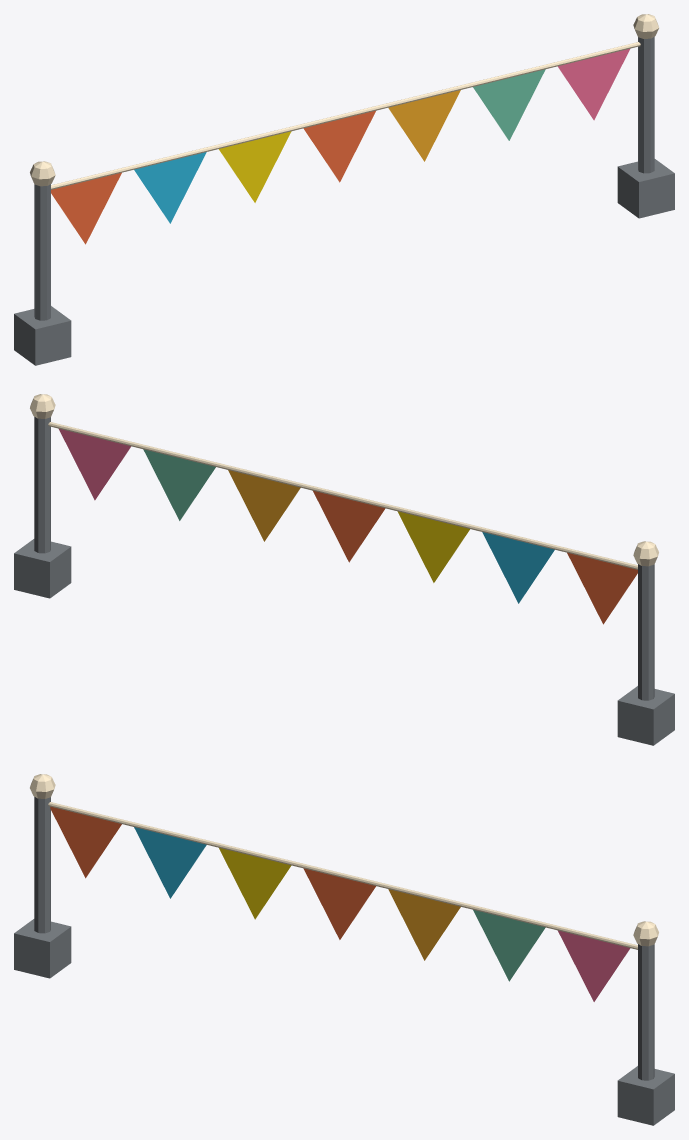
Rendered from Street_Festive_Bunting.glb.
The picture shows the model from 3 angles, top to bottom: view 1: azimuth 30°, elevation 25°; view 2: azimuth 150°, elevation 25°; view 3: azimuth 330°, elevation 25°; orthographic projection.
Visible parts, largest first — view 1: Street_Festive_Bunting; view 2: Street_Festive_Bunting; view 3: Street_Festive_Bunting.
Boxes of the visible parts, left/top/right/bottom form: Street_Festive_Bunting: left=14, top=14, right=674, bottom=365; Street_Festive_Bunting: left=14, top=394, right=674, bottom=745; Street_Festive_Bunting: left=14, top=774, right=674, bottom=1125.
Size of the model in its own units: 5.51 by 1.58 by 0.3198.
